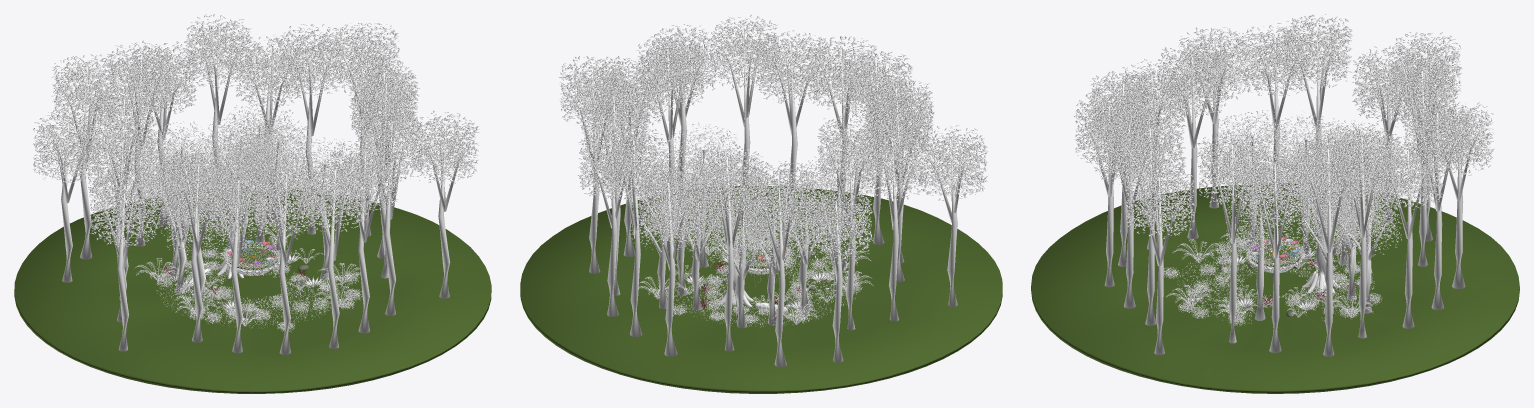
3 renders of one model, left to right at view 1: azimuth 30°, elevation 25°; view 2: azimuth 150°, elevation 25°; view 3: azimuth 270°, elevation 25°, orthographic. The views are drawn at different scales.
Parts seen in each view (by area): view 1: TERRAIN_finite_working_domain, FAR_TREE_11_crown, FAR_TREE_14_crown, FAR_TREE_04_crown, FAR_TREE_15_crown, FAR_TREE_02_crown, FAR_TREE_08_crown, FAR_TREE_12_crown, FAR_TREE_13_crown, FAR_TREE_18_crown, FAR_TREE_07_crown, FAR_TREE_17_crown (+38 smaller); view 2: TERRAIN_finite_working_domain, FAR_TREE_07_crown, FAR_TREE_05_crown, FAR_TREE_09_crown, FAR_TREE_11_crown, FAR_TREE_08_crown, FAR_TREE_17_crown, FAR_TREE_04_crown, FAR_TREE_16_crown, FAR_TREE_19_crown, FAR_TREE_06_crown, FAR_TREE_10_crown (+44 smaller); view 3: TERRAIN_finite_working_domain, FAR_TREE_09_crown, FAR_TREE_18_crown, FAR_TREE_01_crown, FAR_TREE_17_crown, FAR_TREE_00_crown, FAR_TREE_19_crown, FAR_TREE_12_crown, FAR_TREE_04_crown, FAR_TREE_03_crown, FAR_TREE_06_crown, FAR_TREE_10_crown (+41 smaller).
Part boxes in pixels (left/top/right/bottom): TERRAIN_finite_working_domain: left=14, top=187, right=491, bottom=393; FAR_TREE_11_crown: left=89, top=173, right=157, bottom=246; FAR_TREE_14_crown: left=251, top=163, right=319, bottom=236; FAR_TREE_04_crown: left=183, top=14, right=252, bottom=89; FAR_TREE_15_crown: left=299, top=158, right=368, bottom=231; FAR_TREE_02_crown: left=277, top=24, right=345, bottom=98; FAR_TREE_08_crown: left=33, top=111, right=100, bottom=183; FAR_TREE_12_crown: left=162, top=150, right=231, bottom=224; FAR_TREE_13_crown: left=203, top=167, right=271, bottom=241; FAR_TREE_18_crown: left=411, top=111, right=479, bottom=185; FAR_TREE_07_crown: left=51, top=54, right=119, bottom=125; FAR_TREE_17_crown: left=355, top=109, right=424, bottom=182; TERRAIN_finite_working_domain: left=520, top=185, right=1002, bottom=393; FAR_TREE_07_crown: left=745, top=161, right=815, bottom=234; FAR_TREE_05_crown: left=636, top=170, right=705, bottom=245; FAR_TREE_09_crown: left=817, top=114, right=885, bottom=187; FAR_TREE_11_crown: left=918, top=125, right=987, bottom=200; FAR_TREE_08_crown: left=803, top=187, right=873, bottom=263; FAR_TREE_17_crown: left=710, top=14, right=779, bottom=89; FAR_TREE_04_crown: left=601, top=129, right=670, bottom=202; FAR_TREE_16_crown: left=758, top=30, right=827, bottom=105; FAR_TREE_19_crown: left=635, top=37, right=705, bottom=111; FAR_TREE_06_crown: left=695, top=144, right=763, bottom=218; FAR_TREE_10_crown: left=859, top=123, right=929, bottom=200; TERRAIN_finite_working_domain: left=1031, top=183, right=1519, bottom=393; FAR_TREE_09_crown: left=1282, top=14, right=1352, bottom=88; FAR_TREE_18_crown: left=1124, top=165, right=1194, bottom=238; FAR_TREE_01_crown: left=1293, top=134, right=1363, bottom=211; FAR_TREE_17_crown: left=1115, top=115, right=1186, bottom=188; FAR_TREE_00_crown: left=1240, top=152, right=1310, bottom=225; FAR_TREE_19_crown: left=1197, top=130, right=1267, bottom=205; FAR_TREE_12_crown: left=1157, top=43, right=1228, bottom=117; FAR_TREE_04_crown: left=1403, top=99, right=1473, bottom=173; FAR_TREE_03_crown: left=1374, top=137, right=1443, bottom=209; FAR_TREE_06_crown: left=1387, top=56, right=1458, bottom=131; FAR_TREE_10_crown: left=1240, top=23, right=1310, bottom=96.
Size of the model in its own units: 64 by 30.76 by 64.
